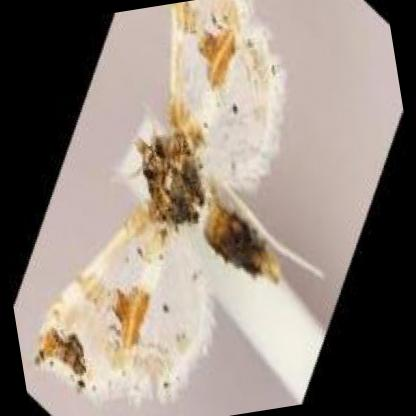leucinodes: (35, 1, 287, 406)
